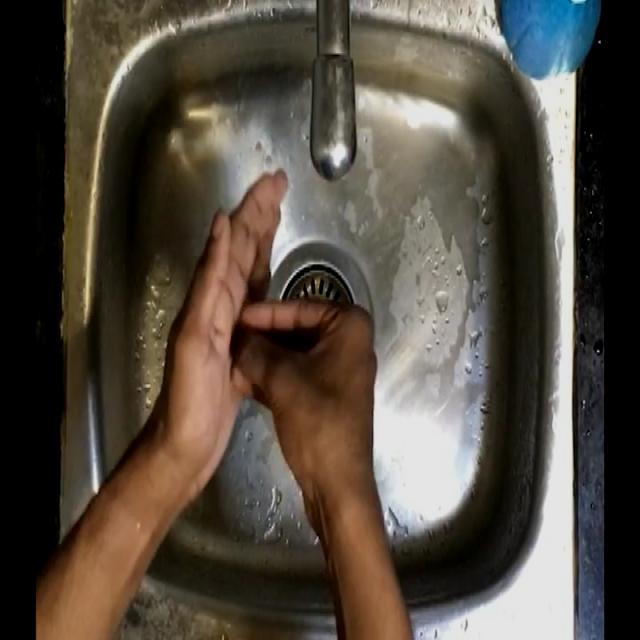step_6: (163, 162, 389, 487)
